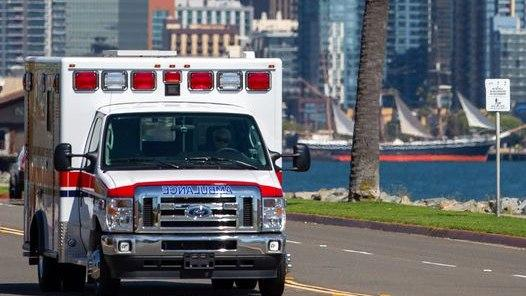ambulance_off: (23, 50, 310, 293)
